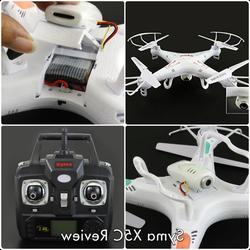drone: (125, 31, 250, 97)
